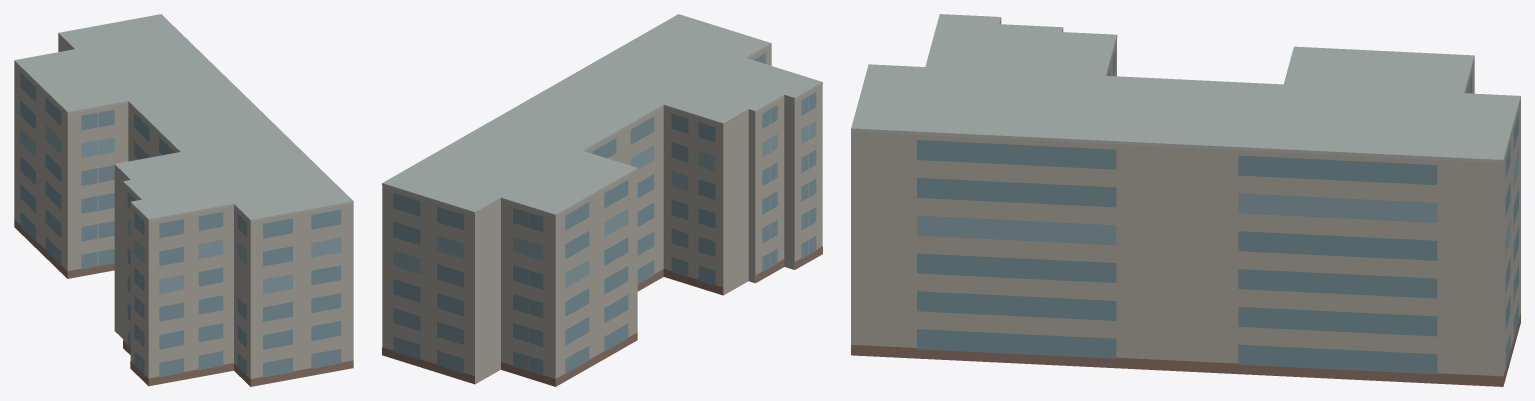
File: survey-upis-32669117.glb
3 renders of one model, left to right at view 1: azimuth 30°, elevation 25°; view 2: azimuth 150°, elevation 25°; view 3: azimuth 270°, elevation 25°, orthographic. The views are drawn at different scales.
Parts seen in each view (by area): view 1: survey-upis-32669117.tmp; view 2: survey-upis-32669117.tmp; view 3: survey-upis-32669117.tmp.
Part boxes in pixels (x1,y1,x2,y2): survey-upis-32669117.tmp: [14, 14, 353, 386]; survey-upis-32669117.tmp: [382, 14, 822, 386]; survey-upis-32669117.tmp: [851, 14, 1520, 386].
Size of the model in its own units: 24.69 by 17.9 by 47.88.
